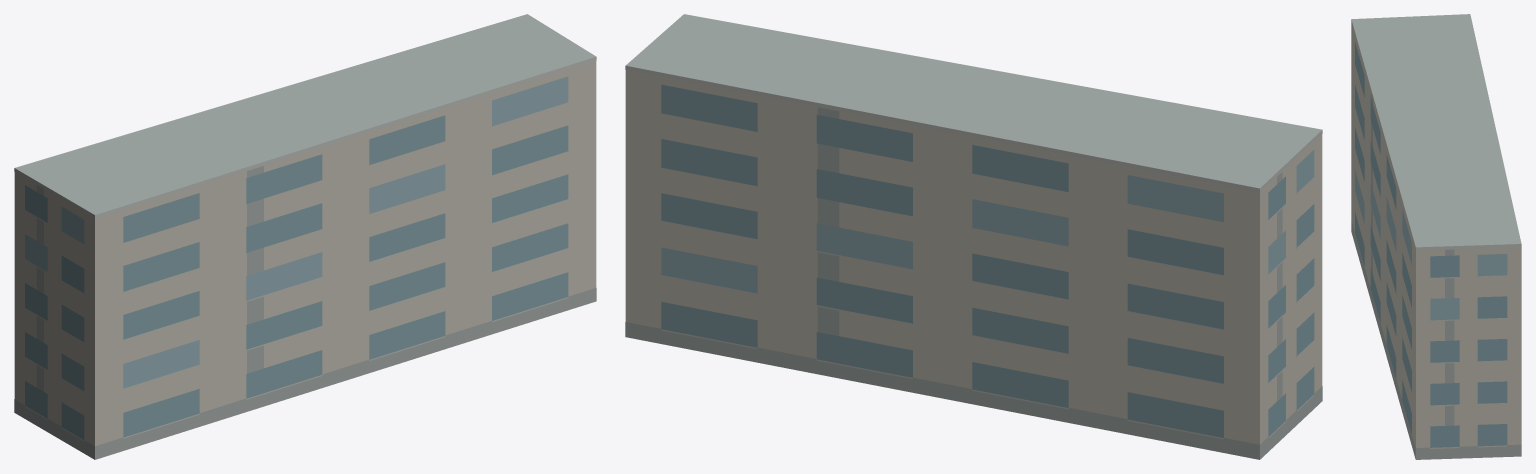
File: survey-upis-32749840.glb
3 renders of one model, left to right at view 1: azimuth 30°, elevation 25°; view 2: azimuth 150°, elevation 25°; view 3: azimuth 270°, elevation 25°, orthographic. The views are drawn at different scales.
Visible parts, largest first — view 1: survey-upis-32749840.tmp; view 2: survey-upis-32749840.tmp; view 3: survey-upis-32749840.tmp.
Boxes of the visible parts, box(x1,y1,x2,y2) form: survey-upis-32749840.tmp: box(14, 14, 596, 459); survey-upis-32749840.tmp: box(625, 14, 1322, 459); survey-upis-32749840.tmp: box(1351, 14, 1521, 459).
Bounding box in the file's own units: 35.91 × 15.25 × 11.08.
